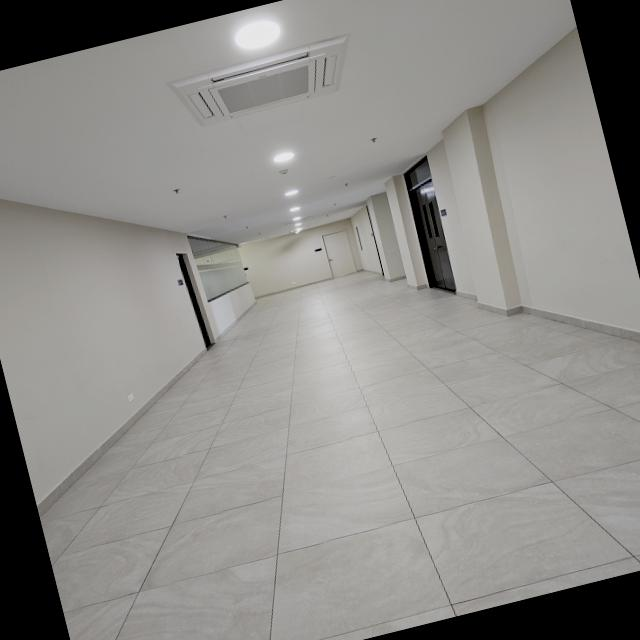footpath: (103, 284, 570, 640)
